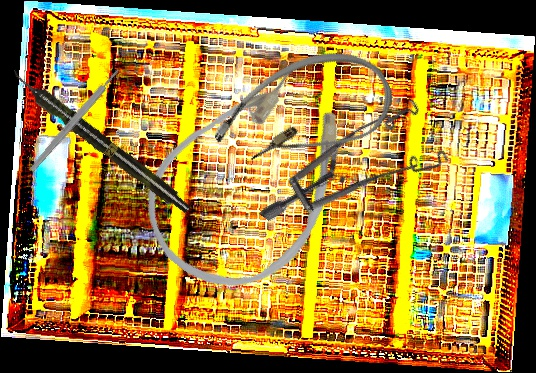Cannula: (116, 35, 391, 321), (201, 27, 406, 201)
Handpiece: (6, 65, 195, 218)
Scalpel Handle: (28, 67, 122, 173)
Speculum: (259, 65, 465, 286)
